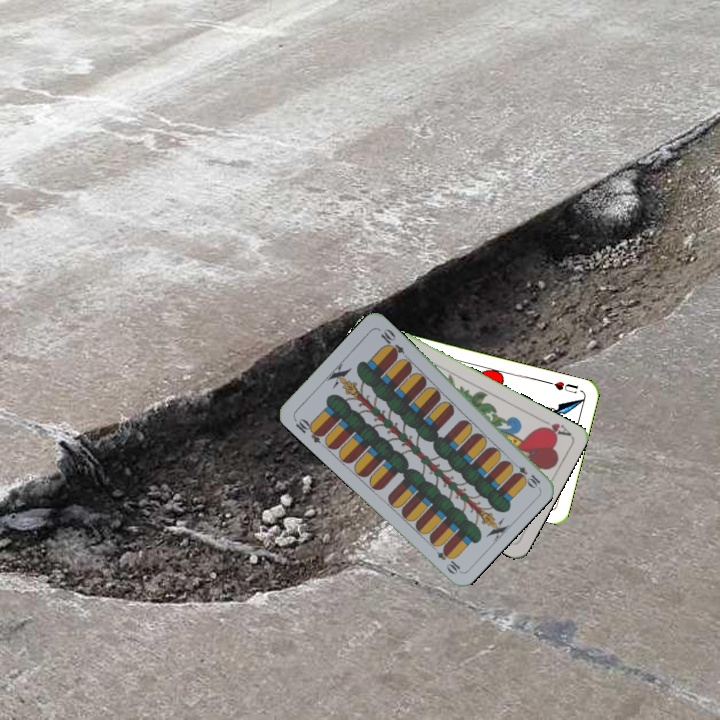E10: (290, 414, 327, 446), (507, 458, 543, 490)
HA: (535, 414, 573, 440)
HU: (544, 377, 581, 396)
